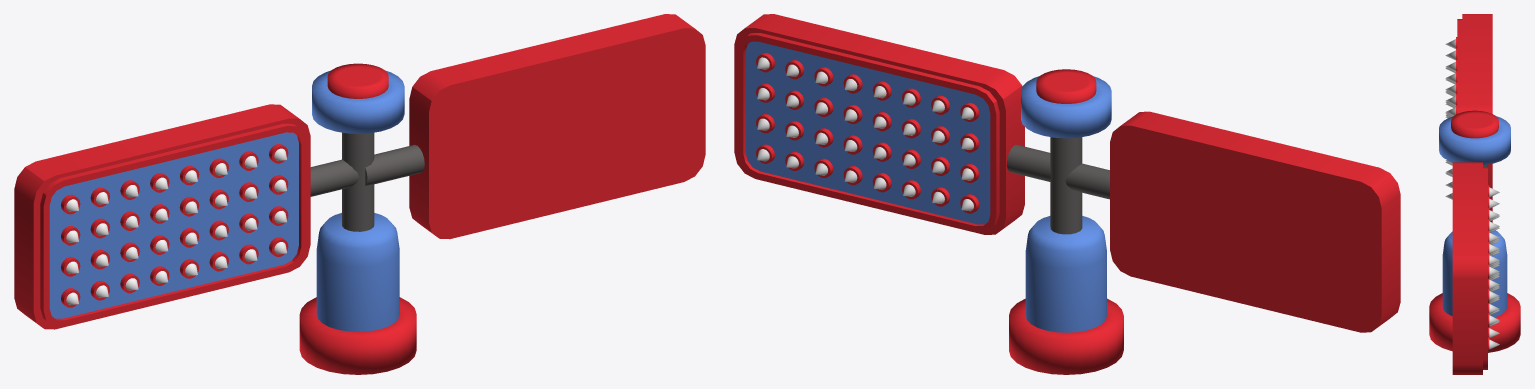
File: Obstacle 14 V1.fbx
3 views of the same model, side by side, from view 1: azimuth 30°, elevation 25°; view 2: azimuth 150°, elevation 25°; view 3: azimuth 270°, elevation 25° (orthographic). The views are drawn at different scales.
Visible parts, largest first — view 1: O14 Part 1, O14 Part 2; view 2: O14 Part 1, O14 Part 2; view 3: O14 Part 1, O14 Part 2.
Boxes of the visible parts, x1=… form: O14 Part 1: x1=14, y1=14, x2=705, y2=329; O14 Part 2: x1=299, y1=63, x2=416, y2=374; O14 Part 1: x1=734, y1=14, x2=1400, y2=332; O14 Part 2: x1=1009, y1=69, x2=1123, y2=374; O14 Part 1: x1=1445, y1=14, x2=1499, y2=374; O14 Part 2: x1=1429, y1=110, x2=1520, y2=352.
Bounding box in the file's own units: 296 × 116 × 45.05.
1 material, 1 textured.
